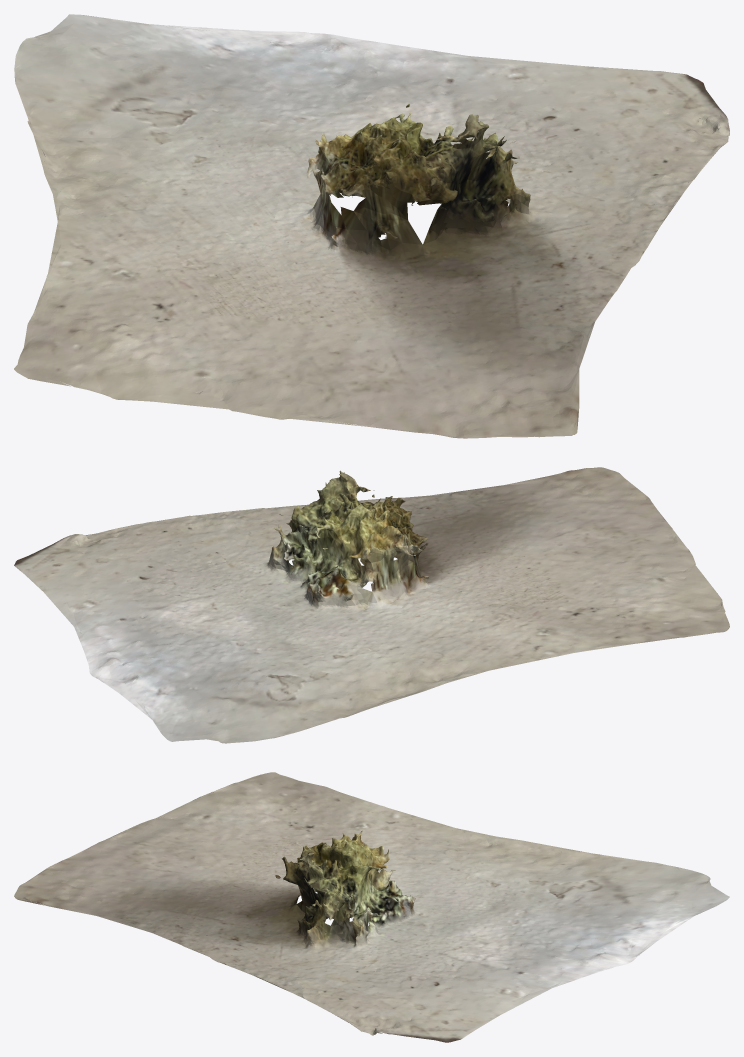
File: Musgo_Ligeia_2.glb
3 views of the same model, one above another, from view 1: azimuth 30°, elevation 25°; view 2: azimuth 150°, elevation 25°; view 3: azimuth 270°, elevation 25° (orthographic). The views are drawn at different scales.
Parts seen in each view (by area): view 1: mesh; view 2: mesh; view 3: mesh.
Part boxes in pixels (x1,y1,x2,y2): mesh: (14,14,729,438); mesh: (14,467,729,743); mesh: (14,772,729,1042).
Size of the model in its own units: 0.3469 by 0.0519 by 0.3957.
1 material, 1 textured.
